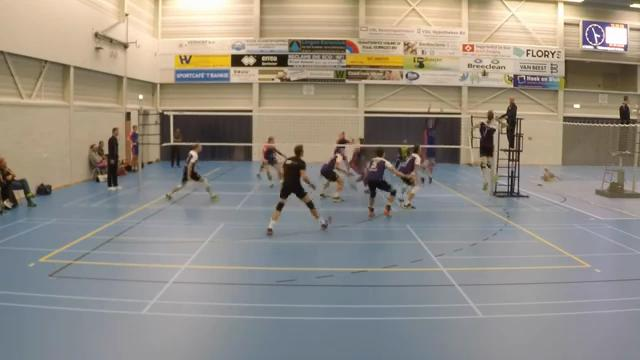attacco: (468, 107, 507, 192)
muro: (423, 101, 444, 183)
